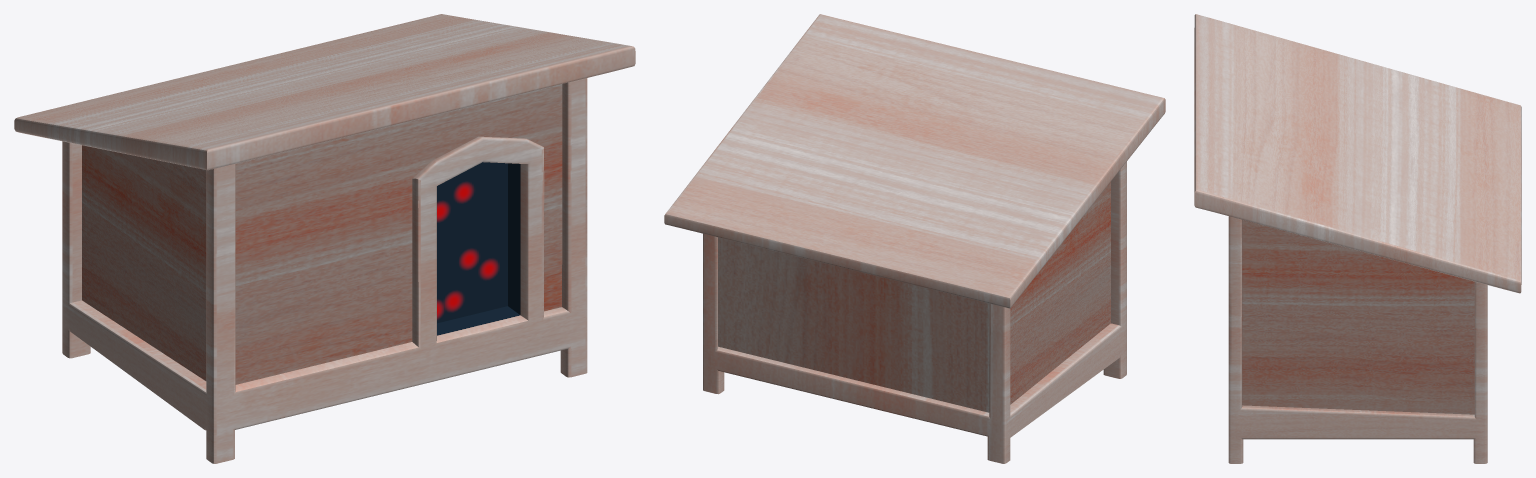
The model's file is Dog_House_02.fbx.
3 renders of one model, left to right at view 1: azimuth 30°, elevation 25°; view 2: azimuth 150°, elevation 25°; view 3: azimuth 270°, elevation 25°, orthographic. The views are drawn at different scales.
Parts seen in each view (by area): view 1: Dog_House_02; view 2: Dog_House_02; view 3: Dog_House_02.
Boxes of the visible parts, x1,y1,x2,y2 form: Dog_House_02: (14,14,635,463); Dog_House_02: (664,14,1165,463); Dog_House_02: (1194,14,1521,463).
Size of the model in its own units: 6.37 by 4.75 by 4.95.
